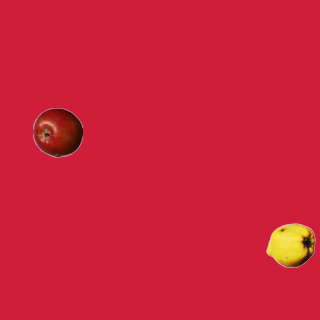Apple Braeburn: (32, 107, 82, 157)
Quince: (265, 220, 315, 270)
